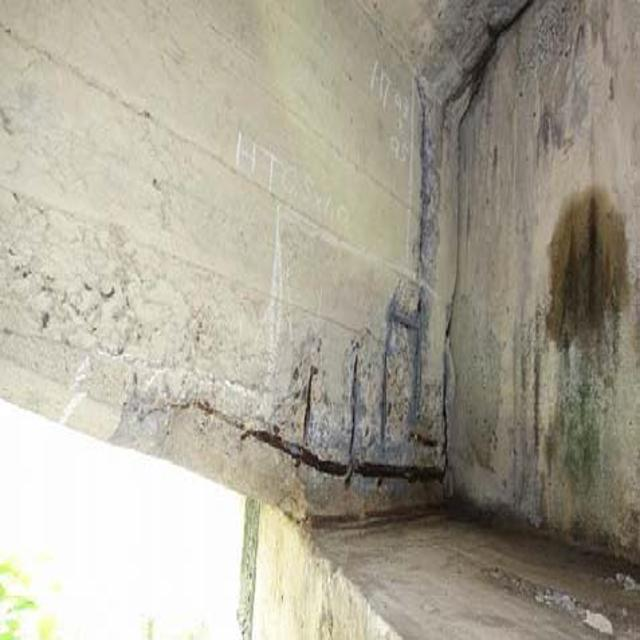spalling: (94, 251, 482, 533)
